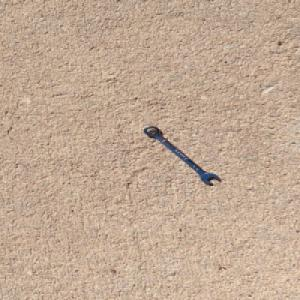Wrench: (142, 124, 222, 184)
